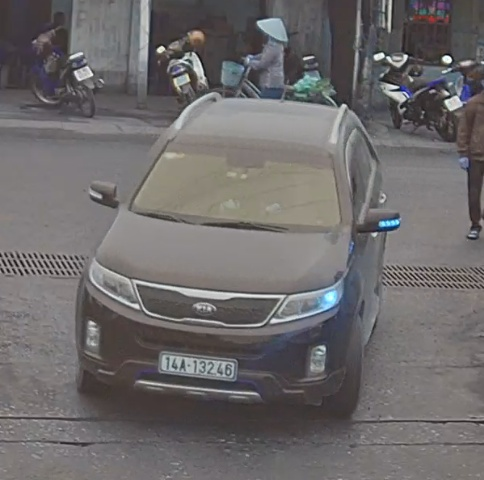vehicle plate: (155, 347, 243, 385)
